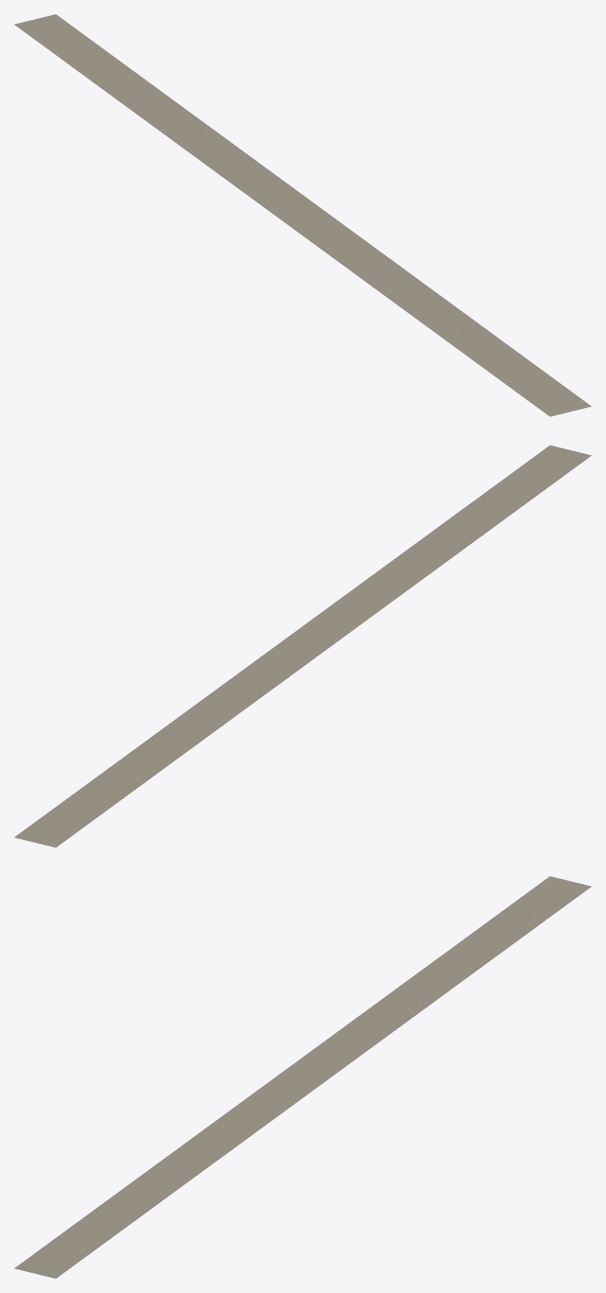
File: SM_GCG_Sand_03.fbx
3 views of the same model, one above another, from view 1: azimuth 30°, elevation 25°; view 2: azimuth 150°, elevation 25°; view 3: azimuth 330°, elevation 25° (orthographic).
Parts seen in each view (by area): view 1: SM_GCG_Sand_03; view 2: SM_GCG_Sand_03; view 3: SM_GCG_Sand_03.
Part boxes in pixels (<box>): SM_GCG_Sand_03: <box>14,14,591,416</box>; SM_GCG_Sand_03: <box>14,445,591,847</box>; SM_GCG_Sand_03: <box>14,876,591,1278</box>.
Bounding box in the file's own units: 116 × 2557 × 1.41e-06.
1 material, 1 textured.
